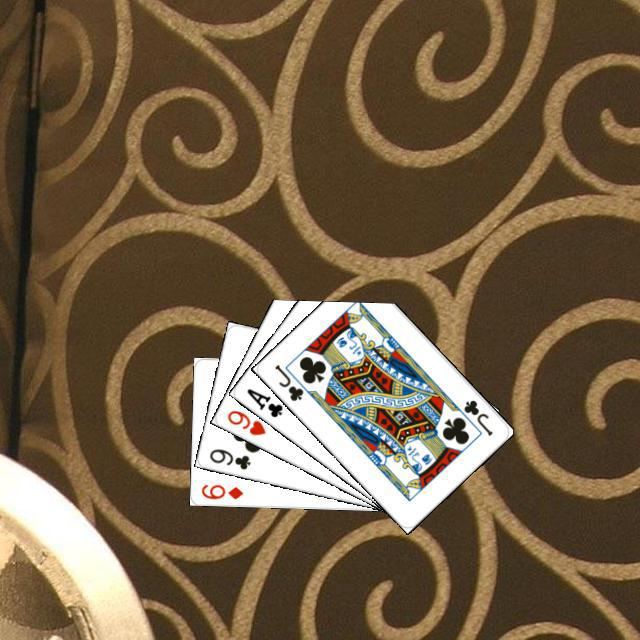6d: (197, 479, 245, 501)
9c: (204, 444, 252, 471)
9h: (222, 405, 268, 437)
Ac: (242, 383, 284, 419)
Jc: (270, 359, 305, 403), (459, 395, 494, 437)
